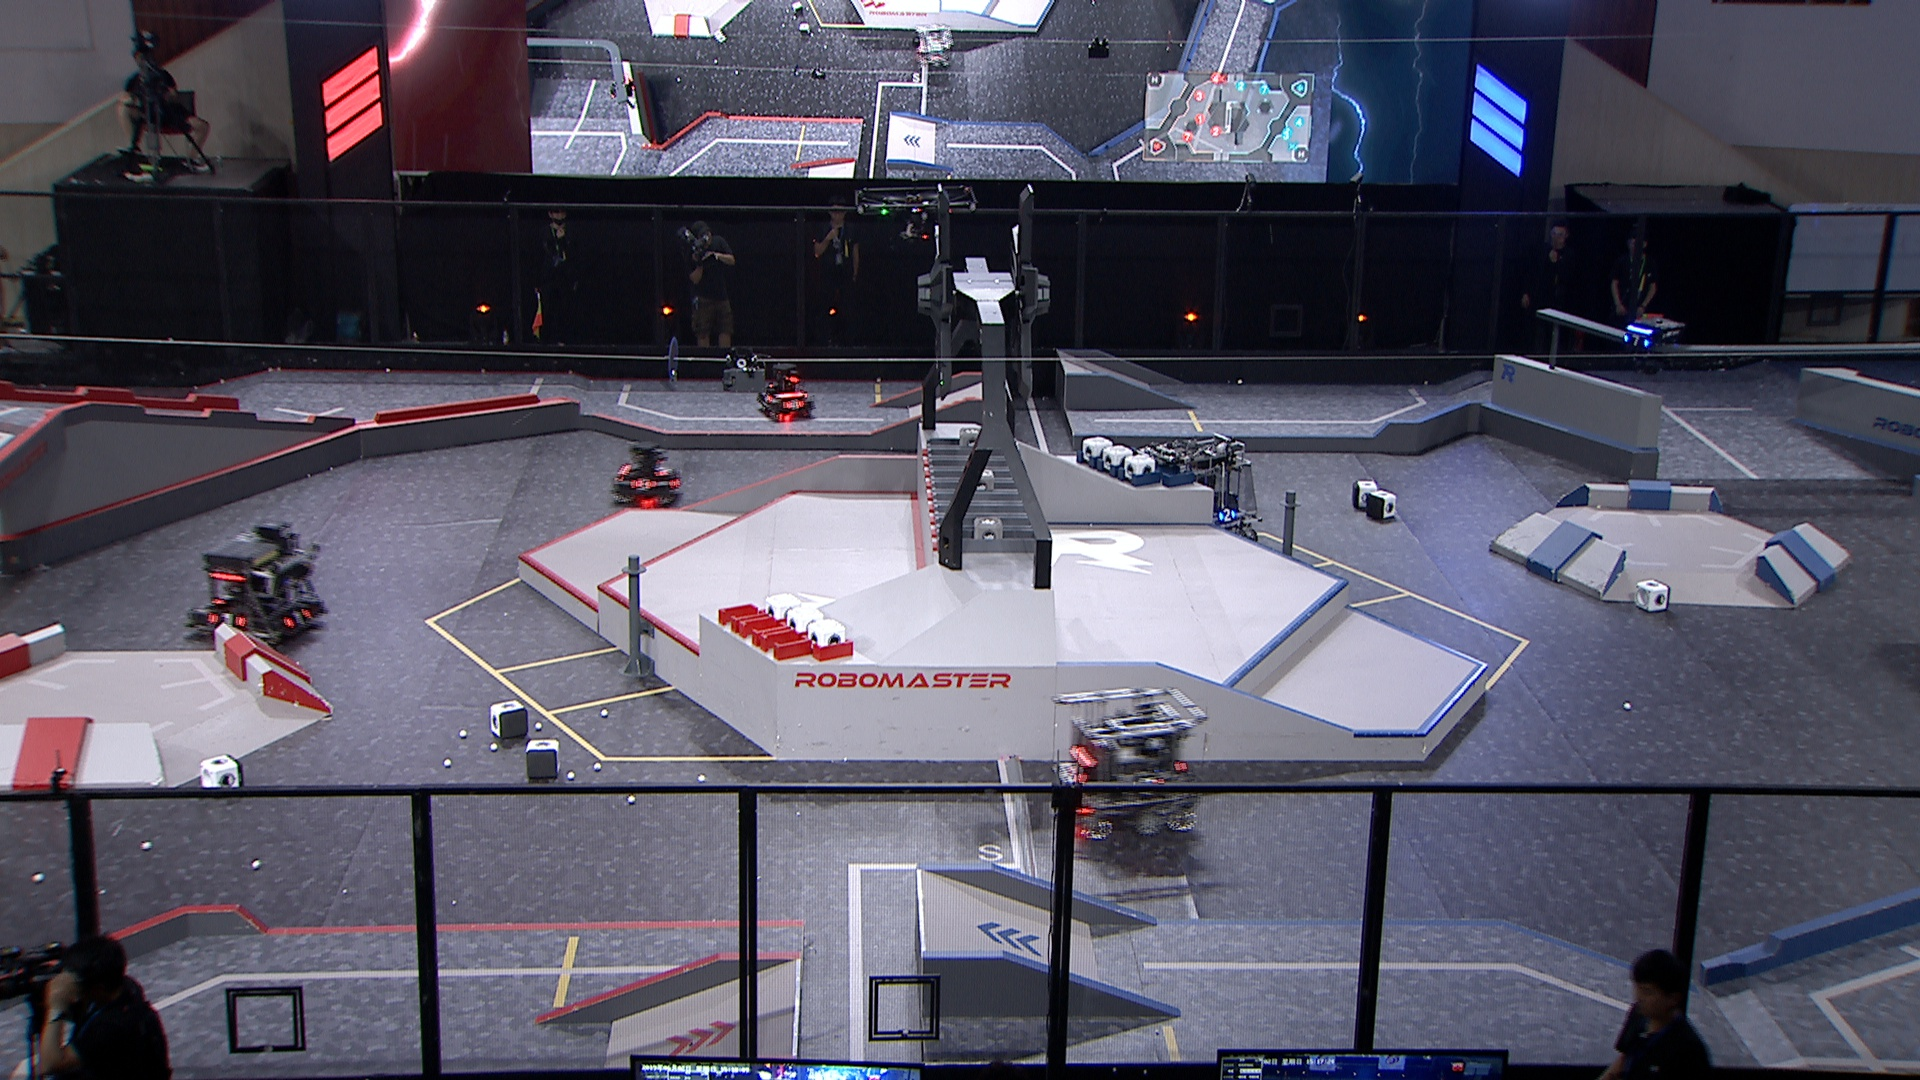armor: (204, 612, 248, 629), (284, 608, 314, 632), (1067, 764, 1091, 787), (1625, 332, 1651, 351), (632, 476, 659, 491), (783, 396, 804, 411), (1218, 509, 1237, 524), (654, 465, 673, 477), (764, 392, 775, 404)
car: (1055, 684, 1211, 843), (186, 516, 328, 650), (1149, 433, 1266, 550), (611, 440, 683, 504), (757, 363, 818, 419)
ignore: (913, 25, 953, 73), (607, 76, 636, 104)
watcher: (1625, 318, 1680, 373)
